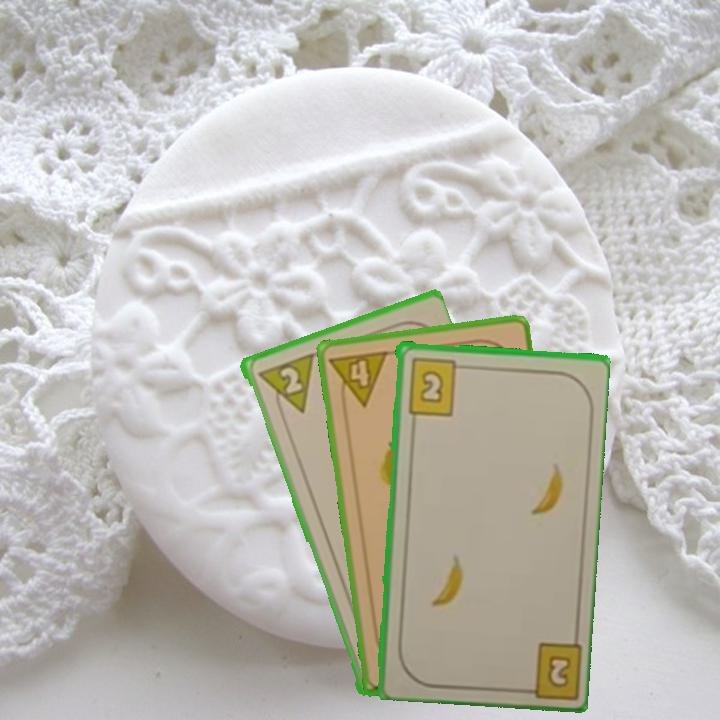2b: (514, 637, 582, 698), (404, 354, 468, 418)
2p: (253, 349, 316, 421)
4p: (326, 347, 391, 412)
